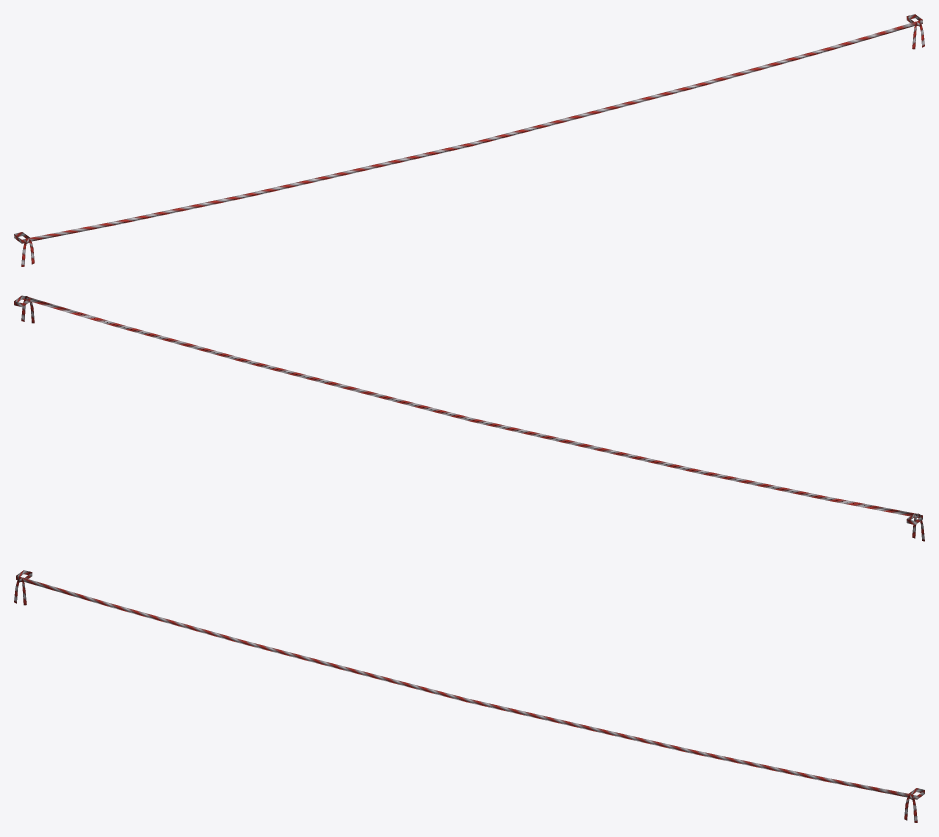
Rendered from jsf_2P_String_s04_01.fbx.
3 renders of one model, top to bottom at view 1: azimuth 30°, elevation 25°; view 2: azimuth 150°, elevation 25°; view 3: azimuth 330°, elevation 25°, orthographic.
Parts seen in each view (by area): view 1: jsf_2P_String_s04_01; view 2: jsf_2P_String_s04_01; view 3: jsf_2P_String_s04_01.
Part boxes in pixels (x1,y1,x2,y2): jsf_2P_String_s04_01: (14, 14, 924, 266); jsf_2P_String_s04_01: (14, 295, 924, 541); jsf_2P_String_s04_01: (14, 570, 924, 822).
Bounding box in the file's own units: 343 × 9.85 × 5.92.
